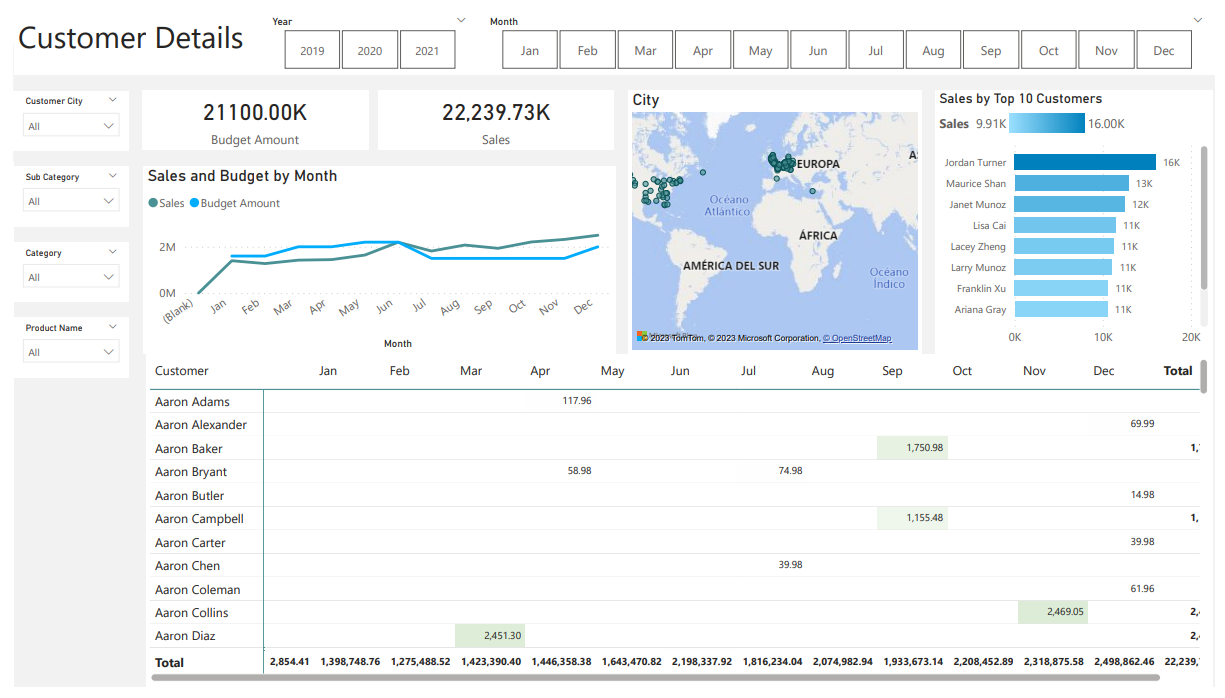

Layout of this report page (visuals, bound fields, positions):
{"tool":"powerbi","page":{"name":"Customer Details","canvas":[1280,720],"ordinal":1},"visuals":[{"type":"textbox","box":[0,0,1280,68.8],"z":0},{"type":"slicer","fields":{"Values":["DIM_Customer.Customer City"]},"box":[0,85.6,123.3,63.3],"z":1000},{"type":"slicer","fields":{"Values":["DIM_Products.Sub Category"]},"box":[0,165.6,123.3,64.4],"z":2000},{"type":"slicer","fields":{"Values":["DIM_Products.Product Category"]},"box":[0,246.7,123.3,63.3],"z":3000},{"type":"slicer","fields":{"Values":["DIM_Products.ProductName"]},"box":[0,326.7,123.3,64.4],"z":4000},{"type":"slicer","fields":{"Values":["DIM_Calendar.Year"]},"box":[263.4,0,231.2,68.8],"z":5000},{"type":"slicer","fields":{"Values":["DIM_Calendar.MonthShort"]},"box":[494.6,0,785.9,68.8],"z":6000},{"type":"card","fields":{"Values":["Key Measures.Sales"]},"box":[389.4,85,250.9,63.1],"z":8000},{"type":"card","fields":{"Values":["Key Measures.Budget Amount"]},"box":[137.1,85,241.3,63.1],"z":9000},{"type":"pivotTable","fields":{"Values":["Key Measures.Sales"],"Columns":["DIM_Calendar.MonthShort"],"Rows":["DIM_Customer.Full Name"]},"box":[141.2,366.1,1136.6,353.7],"z":10000},{"type":"lineChart","title":"Sales and Budget by Month","fields":{"Y":["Key Measures.Sales","Key Measures.Budget Amount"],"Category":["DIM_Calendar.MonthShort"]},"box":[138.5,165.9,503.2,200.2],"z":11000},{"type":"barChart","title":"Sales by Top 10 Customers","fields":{"Y":["Key Measures.Sales"],"Category":["DIM_Customer.Full Name"]},"box":[981.7,85,296.1,281.1],"z":13000},{"type":"map","fields":{"Category":["DIM_Customer.Customer City"]},"box":[655.4,85,312.6,281.1],"z":14000}]}

Visuals, with their boxes in screenshot pixels (x1, y1, x2, y2), scaled from the page's 1280x720 canvas onto the 1225x698 screenshot:
textbox: <region>0, 0, 1224, 67</region>
slicer - DIM_Customer.Customer City: <region>0, 83, 118, 144</region>
slicer - DIM_Products.Sub Category: <region>0, 161, 118, 223</region>
slicer - DIM_Products.Product Category: <region>0, 239, 118, 301</region>
slicer - DIM_Products.ProductName: <region>0, 317, 118, 379</region>
slicer - DIM_Calendar.Year: <region>252, 0, 473, 67</region>
slicer - DIM_Calendar.MonthShort: <region>473, 0, 1224, 67</region>
card - Key Measures.Sales: <region>373, 82, 613, 144</region>
card - Key Measures.Budget Amount: <region>131, 82, 362, 144</region>
pivotTable - Key Measures.Sales x DIM_Calendar.MonthShort: <region>135, 355, 1223, 697</region>
"Sales and Budget by Month" lineChart: <region>133, 161, 614, 355</region>
"Sales by Top 10 Customers" barChart: <region>940, 82, 1223, 355</region>
map - DIM_Customer.Customer City: <region>627, 82, 926, 355</region>
